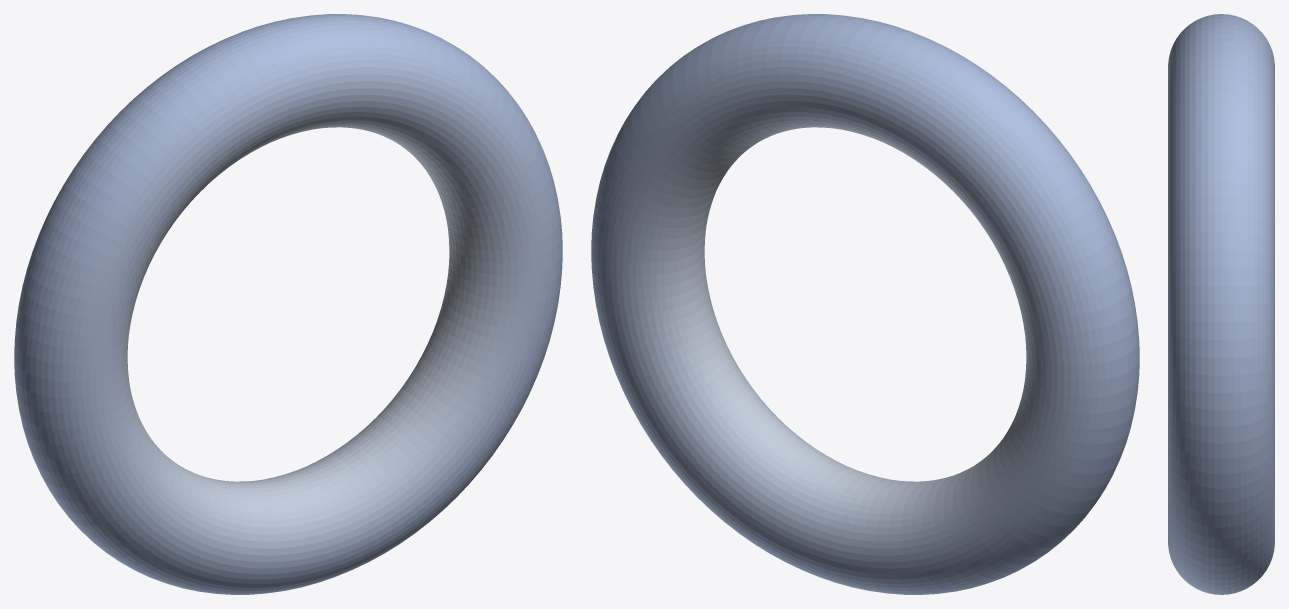
3 renders of one model, left to right at view 1: azimuth 30°, elevation 25°; view 2: azimuth 150°, elevation 25°; view 3: azimuth 270°, elevation 25°, orthographic. The views are drawn at different scales.
Visible parts, largest first — view 1: world; view 2: world; view 3: world.
Boxes of the visible parts, x1,y1,x2,y2 form: world: (14,14,562,594); world: (591,14,1139,594); world: (1168,14,1274,594).
Bounding box in the file's own units: 25.33 × 25.33 × 4.66.
